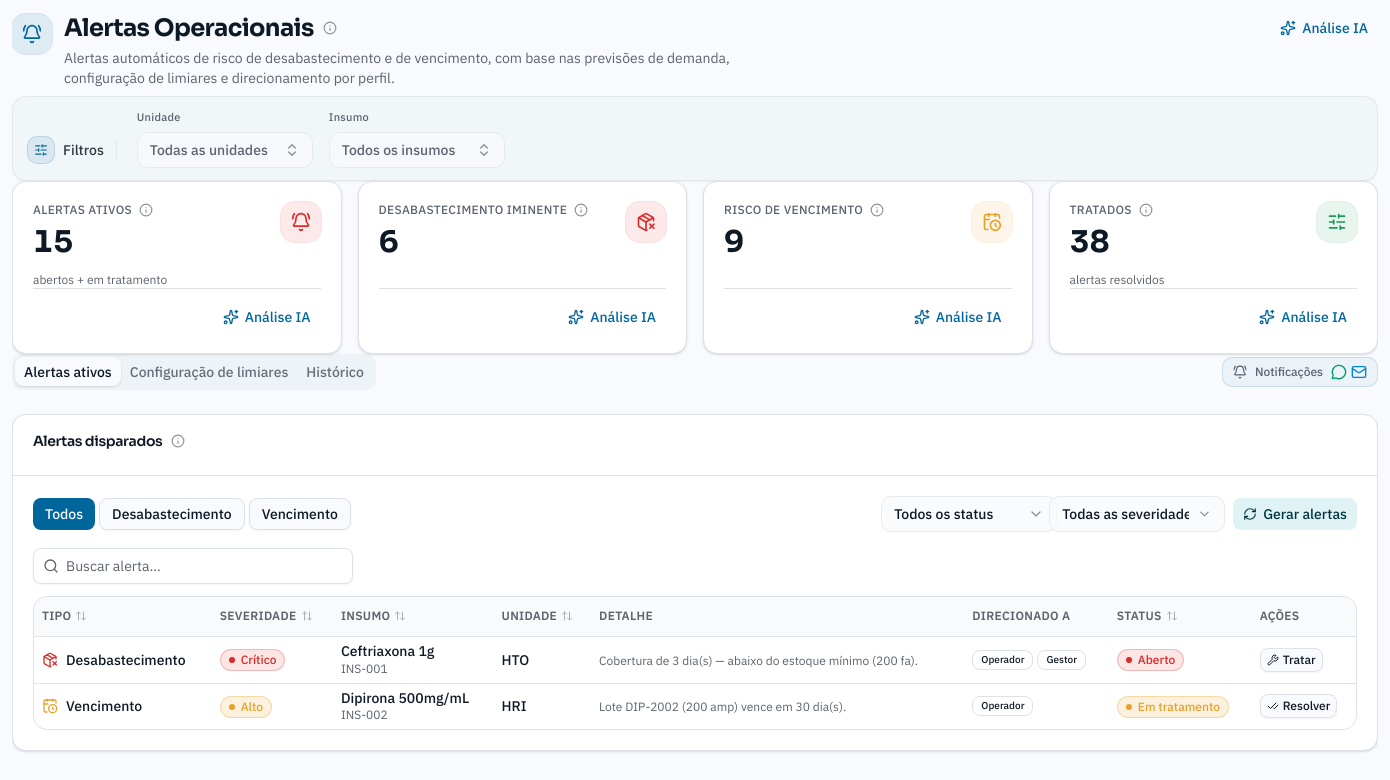
Scenario: AlertasPage › Gestor vê o botão de gerar alertas e recebe o resultado do motor
Click the button "Gerar alertas" at (1295, 514), box [1233,498,1357,530]
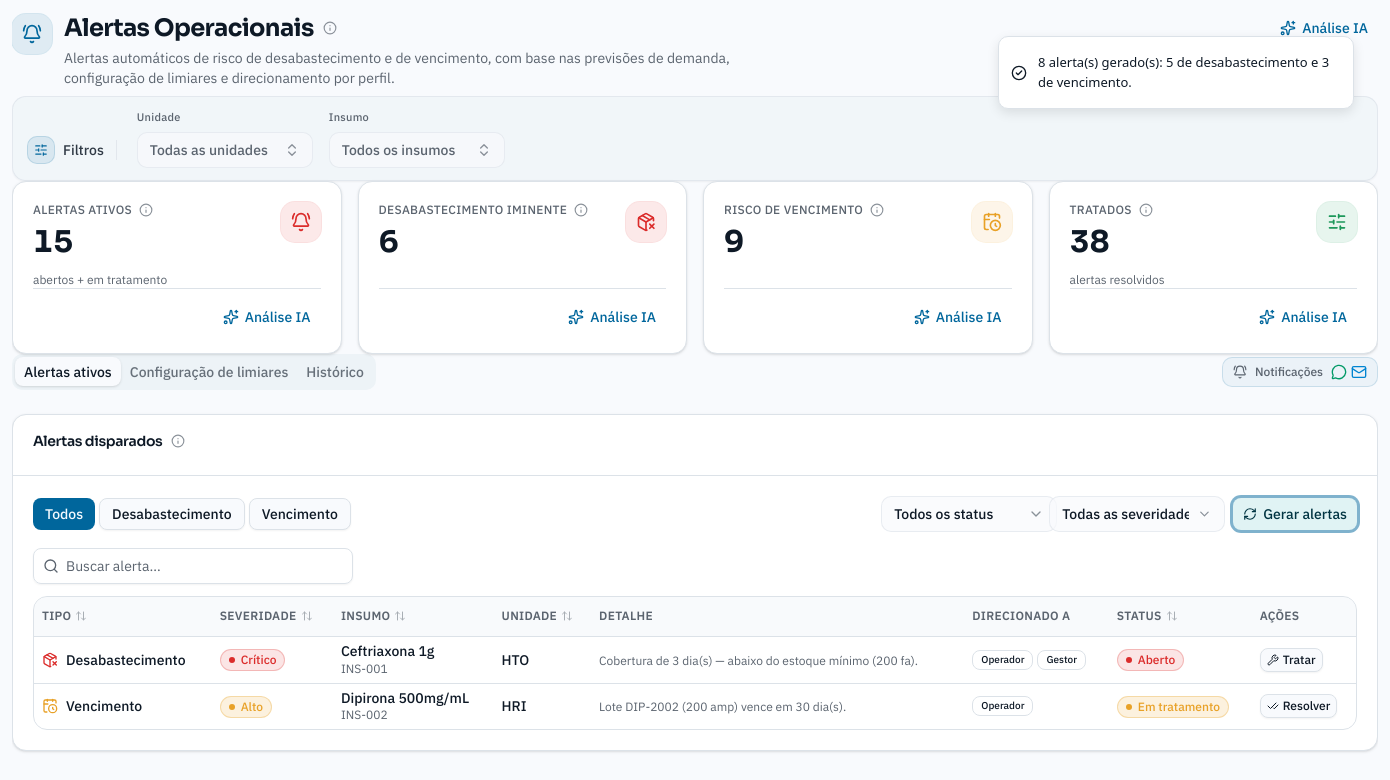
Result: the text "8 alerta(s) gerado(s): 5 de desabastecimento e 3 de vencimento." is shown at [1038,53,1337,92]
